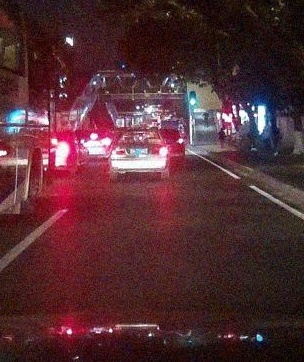L_light: (112, 148, 127, 155)
R_light: (151, 147, 168, 155)
T_light: (135, 132, 145, 135)
night-right: (110, 128, 169, 179)
